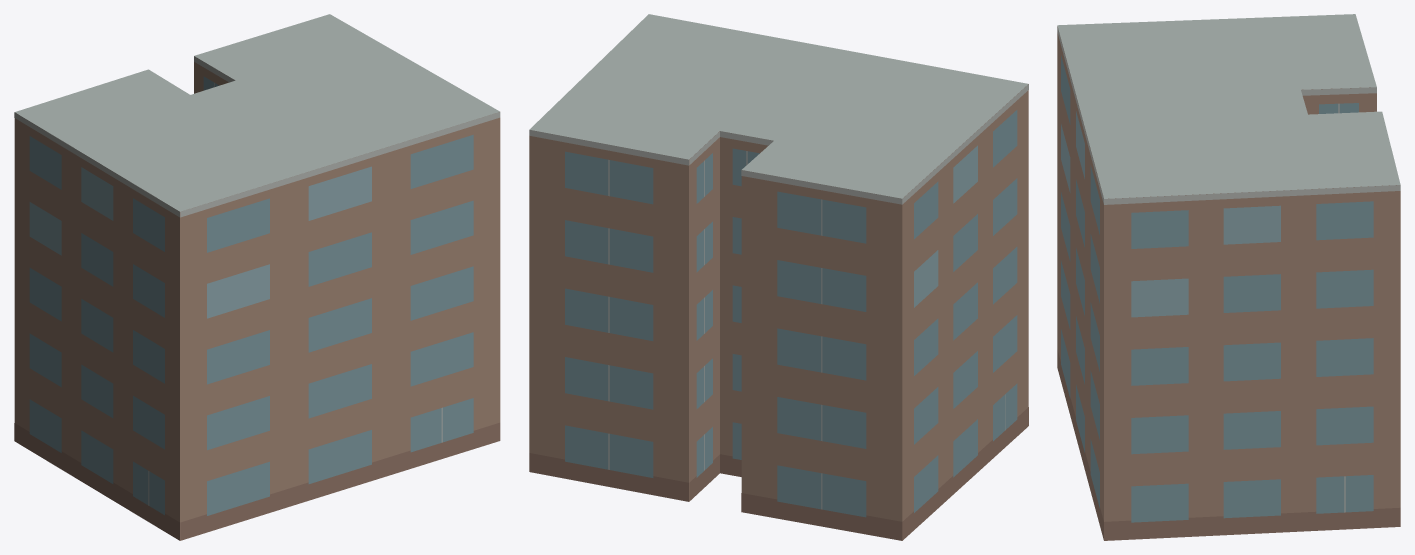
The model's file is survey-upis-32456952.glb.
3 views of the same model, side by side, from view 1: azimuth 30°, elevation 25°; view 2: azimuth 150°, elevation 25°; view 3: azimuth 270°, elevation 25° (orthographic). The views are drawn at different scales.
Parts seen in each view (by area): view 1: survey-upis-32456952.tmp; view 2: survey-upis-32456952.tmp; view 3: survey-upis-32456952.tmp.
Part boxes in pixels (<box>): survey-upis-32456952.tmp: <box>14,14,500,540</box>; survey-upis-32456952.tmp: <box>529,14,1028,540</box>; survey-upis-32456952.tmp: <box>1057,14,1400,540</box>.
Size of the model in its own units: 16.14 by 13.9 by 12.66.
